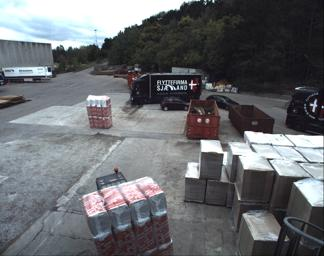rockwool_batts: (83, 175, 172, 255), (86, 93, 112, 127)
